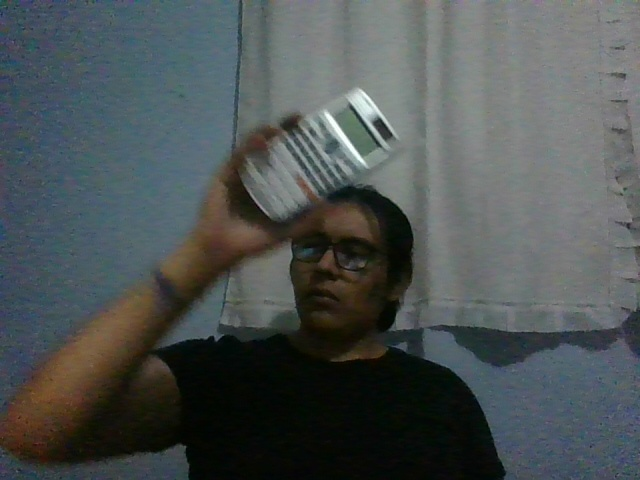calculadora: (237, 86, 402, 225)
